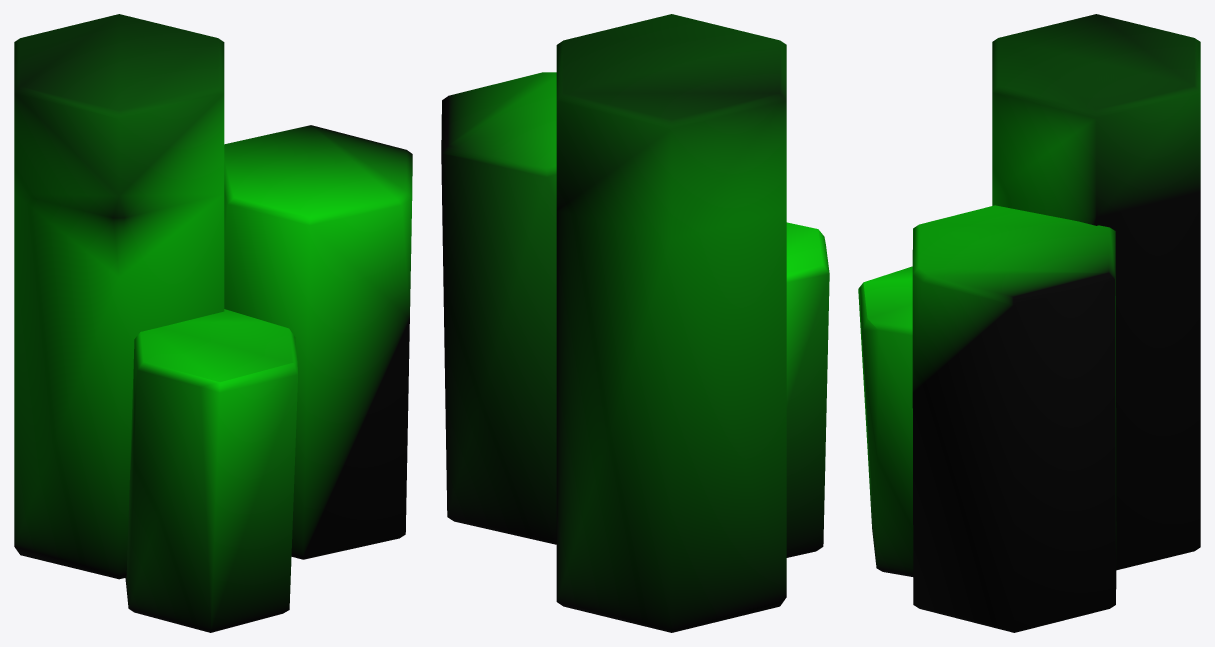
Rendered from SM_RockHexic_Rocks01.fbx.
3 renders of one model, left to right at view 1: azimuth 30°, elevation 25°; view 2: azimuth 150°, elevation 25°; view 3: azimuth 270°, elevation 25°, orthographic. The views are drawn at different scales.
Parts seen in each view (by area): view 1: SM_RockHexic_Rocks01; view 2: SM_RockHexic_Rocks01; view 3: SM_RockHexic_Rocks01.
Part boxes in pixels (bbox=[...]): SM_RockHexic_Rocks01: bbox=[14, 14, 412, 632]; SM_RockHexic_Rocks01: bbox=[441, 14, 829, 632]; SM_RockHexic_Rocks01: bbox=[858, 14, 1200, 632].
Bounding box in the file's own units: 805 × 674 × 1048.
